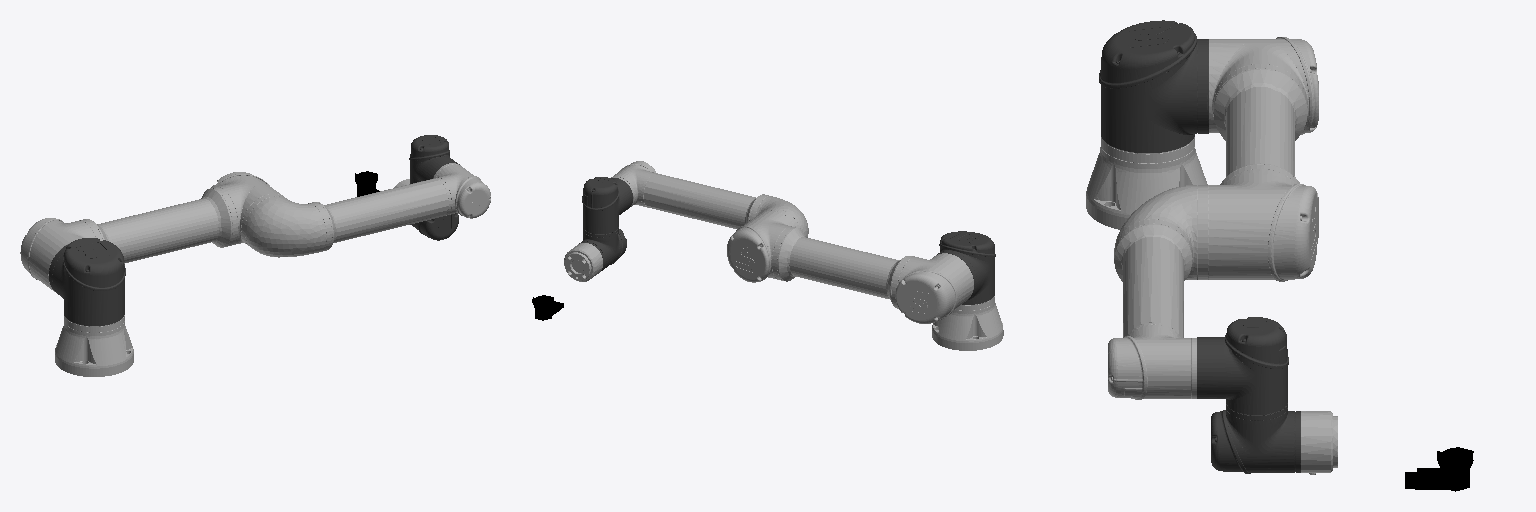
robot.urdf — ur5e:
<?xml version="1" ?>
<!-- =================================================================================== -->
<!-- This document is combination of following:  -->

<!-- ur5e.urdf.xacro -->

<!-- wsg_50.urdf (Robotnik Automation SLL, https://github.com/nalt/wsg50-ros-pkg) -->

<!-- Gelsight -->

 <!-- =================================================================================== -->
 <robot name="ur5e" xmlns:xacro="http://ros.org/wiki/xacro">
    <material name="black">
        <color rgba="0 0 0 1"/>
    </material>
    <material name="LightGrey">
        <color rgba="0.7 0.7 0.7 1.0"/>
    </material>
    <material name="darkgrey">
        <color rgba="0.3 0.3 0.3 1"/>
    </material>
    <material name="grey">
        <color rgba="0.5 0.5 0.5 1"/>
    </material>
    <material name="firebrick">
        <color rgba="0.545 0.102 0.102 1"/>
    </material>
    <material name="white">
        <color rgba="0.9 0.9 0.9 1"/>
    </material>
   <link name="base_link">
     <visual>
       <geometry>
         <mesh filename="ur5e_robot/collision/base.stl"/>
       </geometry>
       <material name="LightGrey">
         <color rgba="0.7 0.7 0.7 1.0"/>
       </material>
     </visual>
     <collision>
       <geometry>
         <mesh filename="ur5e_robot/collision/base.stl" scale="1.0 1.0 1.0"/>
       </geometry>
     </collision>
     <inertial>
       <mass value="4.0"/>
       <origin rpy="0 0 0" xyz="0.0 0.0 0.0"/>
       <inertia ixx="0.00443333156" ixy="0.0" ixz="0.0" iyy="0.00443333156" iyz="0.0" izz="0.0072"/>
     </inertial>
   </link>
   <joint name="shoulder_pan_joint" type="revolute">
     <parent link="base_link"/>
     <child link="shoulder_link"/>
     <origin rpy="0.0 0.0 0.0" xyz="0.0 0.0 0.163"/>
     <axis xyz="0 0 1"/>
     <limit effort="150.0" lower="-6.28318530718" upper="6.28318530718" velocity="1"/>
     <dynamics damping="0.0" friction="0.0"/>
   </joint>
   <link name="shoulder_link">
     <visual>
       <geometry>
         <mesh filename="ur5e_robot//collision//shoulder.stl"/>
       </geometry>
       <material name="darkgrey"/>
     </visual>
     <collision>
       <geometry>
         <mesh filename="ur5e_robot//collision//shoulder.stl" scale="1.0 1.0 1.0"/>
       </geometry>
     </collision>
     <inertial>
       <mass value="3.7"/>
       <origin rpy="0 0 0" xyz="0.0 0.0 0.0"/>
       <inertia ixx="0.010267495893" ixy="0.0" ixz="0.0" iyy="0.010267495893" iyz="0.0" izz="0.00666"/>
     </inertial>
   </link>
   <joint name="shoulder_lift_joint" type="revolute">
     <parent link="shoulder_link"/>
     <child link="upper_arm_link"/>
     <origin rpy="0.0 1.57079632679 0.0" xyz="0.0 0.138 0.0"/>
     <axis xyz="0 1 0"/>
     <limit effort="150.0" lower="-6.28318530718" upper="6.28318530718" velocity="1"/>
     <dynamics damping="0.0" friction="0.0"/>
   </joint>
   <link name="upper_arm_link">
     <visual>
       <geometry>
         <mesh filename="ur5e_robot//collision//upperarm.stl"/>
       </geometry>
       <material name="LightGrey"/>
     </visual>
     <collision>
       <geometry>
         <mesh filename="ur5e_robot//collision//upperarm.stl" scale="1.0 1.0 1.0"/>
       </geometry>
     </collision>
     <inertial>
       <mass value="8.393"/>
       <origin rpy="0 0 0" xyz="0.0 0.0 0.2125"/>
       <inertia ixx="0.133885781862" ixy="0.0" ixz="0.0" iyy="0.133885781862" iyz="0.0" izz="0.0151074"/>
     </inertial>
   </link>
   <joint name="elbow_joint" type="revolute">
     <parent link="upper_arm_link"/>
     <child link="forearm_link"/>
     <origin rpy="0.0 0.0 0.0" xyz="0.0 -0.131 0.425"/>
     <axis xyz="0 1 0"/>
     <limit effort="150.0" lower="-3.14159265359" upper="3.14159265359" velocity="1"/>
     <dynamics damping="0.0" friction="0.0"/>
   </joint>
   <link name="forearm_link">
     <visual>
       <geometry>
         <mesh filename="ur5e_robot//collision//forearm.stl"/>
       </geometry>
       <material name="LightGrey"/>

     </visual>
     <collision>
       <geometry>
         <mesh filename="ur5e_robot//collision//forearm.stl" scale="1.0 1.0 1.0"/>
       </geometry>
     </collision>
     <inertial>
       <mass value="2.275"/>
       <origin rpy="0 0 0" xyz="0.0 0.0 0.196"/>
       <inertia ixx="0.0311796208615" ixy="0.0" ixz="0.0" iyy="0.0311796208615" iyz="0.0" izz="0.004095"/>
     </inertial>
   </link>
   <joint name="wrist_1_joint" type="revolute">
     <parent link="forearm_link"/>
     <child link="wrist_1_link"/>
     <origin rpy="0.0 1.57079632679 0.0" xyz="0.0 0.0 0.392"/>
     <axis xyz="0 1 0"/>
     <limit effort="28.0" lower="-6.28318530718" upper="6.28318530718" velocity="1"/>
     <dynamics damping="0.0" friction="0.0"/>
   </joint>
   <link name="wrist_1_link">
     <visual>
       <geometry>
         <mesh filename="ur5e_robot//collision//wrist1.stl"/>
       </geometry>
       <material name="darkgrey"/>

     </visual>
     <collision>
       <geometry>
         <mesh filename="ur5e_robot//collision//wrist1.stl" scale="1.0 1.0 1.0"/>
       </geometry>
     </collision>
     <inertial>
       <mass value="1.219"/>
       <origin rpy="0 0 0" xyz="0.0 0.127 0.0"/>
       <inertia ixx="0.00255989897604" ixy="0.0" ixz="0.0" iyy="0.00255989897604" iyz="0.0" izz="0.0021942"/>
     </inertial>
   </link>
   <joint name="wrist_2_joint" type="revolute">
     <parent link="wrist_1_link"/>
     <child link="wrist_2_link"/>
     <origin rpy="0.0 0.0 0.0" xyz="0.0 0.127 0.0"/>
     <axis xyz="0 0 1"/>
     <limit effort="28.0" lower="-6.28318530718" upper="6.28318530718" velocity="1"/>
     <dynamics damping="0.0" friction="0.0"/>
   </joint>
   <link name="wrist_2_link">
     <visual>
       <geometry>
         <mesh filename="ur5e_robot//collision//wrist2.stl"/>
       </geometry>
       <material name="darkgrey"/>
     </visual>
     <collision>
       <geometry>
         <mesh filename="ur5e_robot//collision//wrist2.stl" scale="1.0 1.0 1.0"/>
       </geometry>
     </collision>
     <inertial>
       <mass value="1.219"/>
       <origin rpy="0 0 0" xyz="0.0 0.0 0.1"/>
       <inertia ixx="0.00255989897604" ixy="0.0" ixz="0.0" iyy="0.00255989897604" iyz="0.0" izz="0.0021942"/>
     </inertial>
   </link>
   <joint name="wrist_3_joint" type="revolute">
     <parent link="wrist_2_link"/>
     <child link="wrist_3_link"/>
     <origin rpy="0.0 0.0 0.0" xyz="0.0 0.0 0.1"/>
     <axis xyz="0 1 0"/>
     <limit effort="28.0" lower="-6.28318530718" upper="6.28318530718" velocity="1"/>
     <dynamics damping="0.0" friction="0.0"/>
   </joint>
   <link name="wrist_3_link">
     <visual>
       <geometry>
         <mesh filename="ur5e_robot//collision//wrist3.stl"/>
       </geometry>
       <material name="LightGrey"/>
     </visual>
     <collision>
       <geometry>
         <mesh filename="ur5e_robot//collision//wrist3.stl" scale="1.0 1.0 1.0"/>
       </geometry>
     </collision>
     <inertial>
       <mass value="0.1879"/>
       <origin rpy="1.57079632679 0 0" xyz="0.0 0.0771 0.0"/>
       <inertia ixx="9.89041005217e-05" ixy="0.0" ixz="0.0" iyy="9.89041005217e-05" iyz="0.0" izz="0.0001321171875"/>
     </inertial>
   </link>
   <joint name="ee_link" type="fixed">
     <parent link="wrist_3_link"/>
     <child link="ee_link"/>
     <origin rpy="0.0 0.0 1.57079632679" xyz="0.0 0.1 0.0"/>
   </joint>
   <link name="ee_link">
     <collision>
       <geometry>
         <box size="0.01 0.01 0.01"/>
       </geometry>
       <origin rpy="0 0 0" xyz="-0.01 0 0"/>
     </collision>
   </link>
   <transmission name="shoulder_pan_trans">
     <type>transmission_interface/SimpleTransmission</type>
     <joint name="shoulder_pan_joint">
       <hardwareInterface>hardware_interface/PositionJointInterface</hardwareInterface>
     </joint>
     <actuator name="shoulder_pan_motor">
       <mechanicalReduction>1</mechanicalReduction>
     </actuator>
   </transmission>
   <transmission name="shoulder_lift_trans">
     <type>transmission_interface/SimpleTransmission</type>
     <joint name="shoulder_lift_joint">
       <hardwareInterface>hardware_interface/PositionJointInterface</hardwareInterface>
     </joint>
     <actuator name="shoulder_lift_motor">
       <mechanicalReduction>1</mechanicalReduction>
     </actuator>
   </transmission>
   <transmission name="elbow_trans">
     <type>transmission_interface/SimpleTransmission</type>
     <joint name="elbow_joint">
       <hardwareInterface>hardware_interface/PositionJointInterface</hardwareInterface>
     </joint>
     <actuator name="elbow_motor">
       <mechanicalReduction>1</mechanicalReduction>
     </actuator>
   </transmission>
   <transmission name="wrist_1_trans">
     <type>transmission_interface/SimpleTransmission</type>
     <joint name="wrist_1_joint">
       <hardwareInterface>hardware_interface/PositionJointInterface</hardwareInterface>
     </joint>
     <actuator name="wrist_1_motor">
       <mechanicalReduction>1</mechanicalReduction>
     </actuator>
   </transmission>
   <transmission name="wrist_2_trans">
     <type>transmission_interface/SimpleTransmission</type>
     <joint name="wrist_2_joint">
       <hardwareInterface>hardware_interface/PositionJointInterface</hardwareInterface>
     </joint>
     <actuator name="wrist_2_motor">
       <mechanicalReduction>1</mechanicalReduction>
     </actuator>
   </transmission>
   <transmission name="wrist_3_trans">
     <type>transmission_interface/SimpleTransmission</type>
     <joint name="wrist_3_joint">
       <hardwareInterface>hardware_interface/PositionJointInterface</hardwareInterface>
     </joint>
     <actuator name="wrist_3_motor">
       <mechanicalReduction>1</mechanicalReduction>
     </actuator>
   </transmission>
   <gazebo reference="shoulder_link">
     <selfCollide>true</selfCollide>
   </gazebo>
   <gazebo reference="upper_arm_link">
     <selfCollide>true</selfCollide>
   </gazebo>
   <gazebo reference="forearm_link">
     <selfCollide>true</selfCollide>
   </gazebo>
   <gazebo reference="wrist_1_link">
     <selfCollide>true</selfCollide>
   </gazebo>
   <gazebo reference="wrist_3_link">
     <selfCollide>true</selfCollide>
   </gazebo>
   <gazebo reference="wrist_2_link">
     <selfCollide>true</selfCollide>
   </gazebo>
   <gazebo reference="ee_link">
     <selfCollide>true</selfCollide>
   </gazebo>
   <!-- ROS base_link to UR 'Base' Coordinates transform -->
   <link name="base"/>
   <joint name="base_link-base_fixed_joint" type="fixed">
     <!-- NOTE: this rotation is only needed as long as base_link itself is
                  not corrected wrt the real robot (ie: rotated over 180
                  degrees)
       -->
     <origin rpy="0 0 -3.14159265359" xyz="0 0 0"/>
     <parent link="base_link"/>
     <child link="base"/>
   </joint>
   <!-- Frame coincident with all-zeros TCP on UR controller -->
   <link name="tool0"/>
   <joint name="wrist_3_link-tool0_fixed_joint" type="fixed">
     <origin rpy="-1.57079632679 0 0" xyz="0 0.1 0"/>
     <parent link="wrist_3_link"/>
     <child link="tool0"/>
   </joint>
   <link name="world"/>
   <joint name="world_joint" type="fixed">
     <parent link="world"/>
     <child link="base_link"/>
     <origin rpy="0.0 0.0 0.0" xyz="0.0 0.0 0.0"/>
   </joint>

   <!-- Weiss Gripper WSG50 -->

   <!-- ============================================================================= -->

   <!-- BASE LINK -->
   <link name="gripper_base_link">
       <inertial>
           <mass value="1.2" />
           <origin xyz="0 0 0" />
         <!--inertia ixx="1.0" ixy="0.0" ixz="0.0"
                iyy="100.0" iyz="0.0"
                izz="1.0" /-->
           <inertia  ixx="1.0" ixy="0.0"  ixz="0.0"  iyy="1.0"  iyz="0.0"  izz="1.0" />
       </inertial>

       <visual>
           <origin xyz="0.0 0 0" rpy="0 0 0" />
           <geometry>
              <mesh filename="wsg50/WSG50_110.stl" scale="1 1 1"/>
        <!--box size="0.146 0.05 0.0735"/-->
           </geometry>
           <material name="LightGrey"/>
       </visual>

       <collision>
           <origin xyz="0.0 0 0" rpy="0 0 0" />
           <geometry>
        <!--box size="0.146 0.05 0.0735"/-->
              <mesh filename="wsg50/WSG50_110.stl" scale="1 1 1"/>
          </geometry>
      </collision>
   </link>


   <gazebo reference="gripper_base_link">
     <material>Gazebo/Grey</material>
     <turnGravityOff>false</turnGravityOff>
   </gazebo>

   <!-- GRIPPER LEFT -->

   <joint name="base_joint_gripper_left" type="prismatic">
      <limit lower="-0.065" upper="-0.015" effort="100.0" velocity="1.0"/>
<!--       <safety_controller k_position="15" soft_lower_limit="-0.055" soft_upper_limit="-0.0027" />-->
      <origin xyz="0 0 0" rpy="0 0 0" />
      <parent link="gripper_base_link"/>
      <child link="gripper_left" />
<!--      <dynamics friction="100" damping="100" />-->
      <axis xyz="1 0 0"/>
   </joint>

   <transmission name="base_trans_left" type="pr2_mechanism_model/SimpleTransmission">
      <actuator name="base_motor_left" />
      <joint name="base_joint_gripper_left" />
      <mechanicalReduction>1</mechanicalReduction>
      <motorTorqueConstant>1</motorTorqueConstant>
   </transmission>

   <link name="gripper_left">
       <inertial>
           <mass value="0.1" />
           <origin xyz="0 0 0" />
       <inertia ixx="1.0" ixy="0.0" ixz="0.0"
                iyy="1.0" iyz="0.0"
                izz="1.0" />
       </inertial>

       <visual>
           <origin xyz="0.0 0 0" rpy="0 0 0" />
           <geometry>
              <mesh filename="wsg50/GUIDE_WSG50_110.stl" scale="0.001 0.001 0.001"/>
        <!--box size="0.0175 0.03 0.024"/-->
           </geometry>
           <material name="black"/>
       </visual>

       <collision>
           <origin xyz="0 0 0" rpy="0 0 0" />
           <geometry>
        <!--box size="0.0175 0.03 0.024"/-->
              <mesh filename="wsg50/GUIDE_WSG50_110.stl" scale="0.001 0.001 0.001"/>
          </geometry>
      </collision>
   </link>

   <gazebo reference="gripper_left">
     <material>Gazebo/Blue</material>
     <turnGravityOff>false</turnGravityOff>
   </gazebo>


   <!-- LEFT FINGER -->

   <joint name="guide_joint_finger_left" type="fixed">
      <origin xyz="0 0 0.023" rpy="0 0 0" />
      <parent link="gripper_left"/>
      <child link="finger_left" />
      <dynamics friction="100" damping="100" />
      <axis xyz="1 0 0"/>
      <limit effort="100" velocity="1"/>
   </joint>

   <link name="finger_left">

       <contact>
<!--         <lateral_friction value="0.45"/>-->
<!--         <rolling_friction value="0.1"/>-->
         <lateral_friction value="2.7"/>
         <rolling_friction value="1"/>
         <contact_cfm value="0.0"/>
         <contact_erp value="1.0"/>
       </contact>

       <inertial>
           <mass value="0.1" />
           <origin xyz="0 0 0" />
       <inertia ixx="1.0" ixy="0.0" ixz="0.0"
                iyy="1.0" iyz="0.0"
                izz="1.0" />
       </inertial>

       <visual>
           <origin xyz="0.0 0.0 0.0" rpy="0 0 0" />
           <geometry>
              <mesh filename="gelsight/gelsight.stl" scale="1 1 1"/>
           </geometry>
           <material name="black"/>
       </visual>

       <collision>
           <origin xyz="0.0 0.0 0.0" rpy="0 0 0" />
           <geometry>
              <mesh filename="gelsight/gelsight.stl" scale="1 1 1"/>
          </geometry>
      </collision>
   </link>

   <gazebo reference="finger_left">
     <material>Gazebo/Blue</material>
     <turnGravityOff>false</turnGravityOff>
   </gazebo>


   <!-- GRIPPER RIGHT -->

   <joint name="base_joint_gripper_right" type="prismatic">
      <limit lower="0.015" upper="0.065" effort="100.0" velocity="1.0"/>
      <origin xyz="0 0 0" rpy="0 0 3.14159" />
      <parent link="gripper_base_link"/>
      <child link="gripper_right" />
      <axis xyz="-1 0 0"/>
<!--      <dynamics friction="100" damping="100" />-->
   </joint>

   <transmission name="base_trans_right" type="pr2_mechanism_model/SimpleTransmission">
      <actuator name="base_motor_right" />
      <joint name="base_joint_gripper_right" />
      <mechanicalReduction>1</mechanicalReduction>
      <motorTorqueConstant>1</motorTorqueConstant>
   </transmission>

     <link name="gripper_right">
       <inertial>
           <mass value="0.1" />
           <origin xyz="0 0 0" />
       <inertia ixx="1.0" ixy="0.0" ixz="0.0"
                iyy="1.0" iyz="0.0"
                izz="1.0" />
       </inertial>

       <visual>
           <origin xyz="0.0 0 0" rpy="0 0 0" />
           <geometry>
              <mesh filename="wsg50/GUIDE_WSG50_110.stl" scale="0.001 0.001 0.001"/>
        <!--box size="0.0175 0.03 0.024"/-->
           </geometry>
           <material name="black"/>
       </visual>

       <collision>
           <origin xyz="0 0 0" rpy="0 0 0" />
           <geometry>
        <!--box size="0.0175 0.03 0.024"/-->
              <mesh filename="wsg50/GUIDE_WSG50_110.stl" scale="0.001 0.001 0.001"/>
          </geometry>
      </collision>
   </link>

   <gazebo reference="gripper_right">
     <material>Gazebo/White</material>
     <turnGravityOff>false</turnGravityOff>
   </gazebo>

   <!-- RIGHT FINGER -->

   <joint name="guide_joint_finger_right" type="fixed">
      <origin xyz="0 0 0.023" rpy="0 0 0" />
      <parent link="gripper_right"/>
      <child link="finger_right" />
      <dynamics friction="100" damping="100" />
      <axis xyz="1 0 0"/>
      <limit effort="100" velocity="1"/>
   </joint>

   <link name="finger_right">

       <contact>
         <lateral_friction value="0.2"/>
         <rolling_friction value="0.1"/>
         <contact_cfm value="0.0"/>
         <contact_erp value="1.0"/>
       </contact>

       <inertial>
           <mass value="0.1" />
           <origin xyz="0 0 0" />
       <inertia ixx="1.0" ixy="0.0" ixz="0.0"
                iyy="1.0" iyz="0.0"
                izz="1.0" />
       </inertial>

       <visual>
           <origin xyz="0.0 0.0 0.0" rpy="0 0 0" />
           <geometry>
              <mesh filename="wsg50/WSG-FMF.stl" scale="0.001 0.001 0.001"/>
           </geometry>
           <material name="black"/>
       </visual>

       <collision>
           <origin xyz="0.0 0.0 0.0" rpy="0 0 0" />
           <geometry>
              <mesh filename="wsg50/WSG-FMF.stl" scale="0.001 0.001 0.001"/>
          </geometry>
      </collision>
   </link>

   <gazebo reference="finger_right">
     <material>Gazebo/White</material>
     <turnGravityOff>false</turnGravityOff>
   </gazebo>

   <!-- ##################. Connect WSG50 to Sawyer ################## -->
   <joint name="arm_gripper_joint" type="fixed">
     <parent link="ee_link"/>
     <child link="gripper_base_link"/>
     <origin rpy="0.0 1.5708 0.0 " xyz="0.0 0.0 0.0"/>
     <axis xyz="0 0 1"/>
     <limit effort="150.0" lower="-6.28" upper="6.28" velocity="1"/>
   </joint>
</robot>

--- Facts derived from the render (not from the file) ---
The picture shows the robot from 3 angles, left to right: view 1: azimuth 30°, elevation 25°; view 2: azimuth 150°, elevation 25°; view 3: azimuth 270°, elevation 25°; orthographic projection.
Model ur5e with 16 links and 15 joints (6 revolute, 2 prismatic, 7 fixed), rooted at world, posed joints at zero except 2 at the middle of their limits (base_joint_gripper_left = -0.04, base_joint_gripper_right = 0.04).
Links seen in each view (by area): view 1: forearm_link, upper_arm_link, shoulder_link, base_link, wrist_1_link, wrist_2_link; view 2: upper_arm_link, forearm_link, base_link, wrist_1_link, shoulder_link, wrist_3_link, wrist_2_link, finger_left; view 3: upper_arm_link, forearm_link, shoulder_link, wrist_1_link, base_link, wrist_2_link, wrist_3_link, finger_left.
Link boxes in pixels (box(x1,y1,x2,y2)): forearm_link: box(245, 163, 490, 257); upper_arm_link: box(20, 172, 286, 291); shoulder_link: box(49, 238, 125, 325); base_link: box(55, 315, 133, 376); wrist_1_link: box(409, 135, 459, 183); wrist_2_link: box(410, 213, 458, 240); upper_arm_link: box(727, 208, 973, 323); forearm_link: box(611, 161, 808, 237); base_link: box(932, 296, 1003, 350); wrist_1_link: box(582, 177, 632, 237); shoulder_link: box(937, 231, 995, 304); wrist_3_link: box(564, 243, 602, 281); wrist_2_link: box(579, 229, 626, 270); finger_left: box(532, 295, 563, 320); upper_arm_link: box(1197, 37, 1318, 281); forearm_link: box(1108, 185, 1196, 399); shoulder_link: box(1099, 20, 1208, 152); wrist_1_link: box(1197, 317, 1288, 420); base_link: box(1086, 137, 1207, 229); wrist_2_link: box(1211, 408, 1300, 473); wrist_3_link: box(1301, 411, 1337, 474); finger_left: box(1405, 447, 1473, 491).
Bounding box of the posed robot: 0.9318 × 0.4742 × 0.2345 m (x, y, z).
Meshes: 11 distinct files referenced, 8 mesh visuals loaded (8 binary STL); not drawn: 4 (reference not matched to a file when rendering).